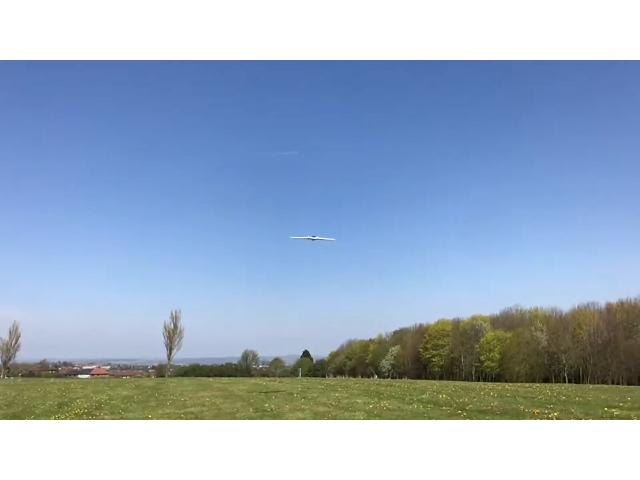Anti-Drone: (290, 232, 336, 247)
